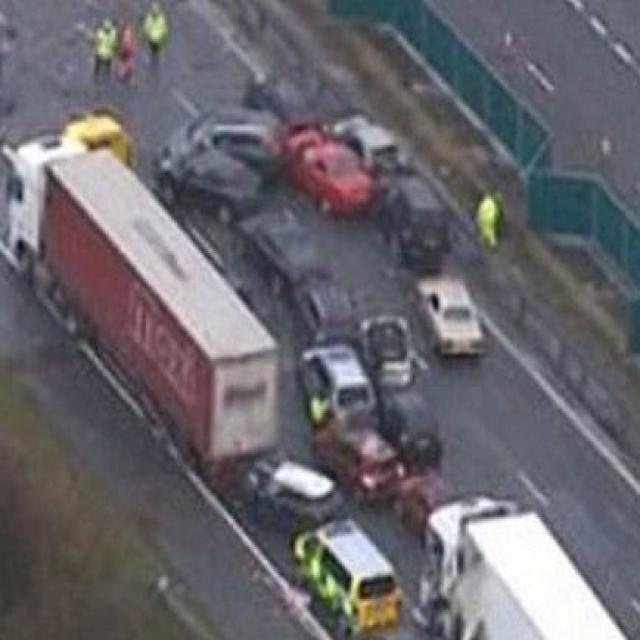traffic_incident: (162, 88, 497, 556)
